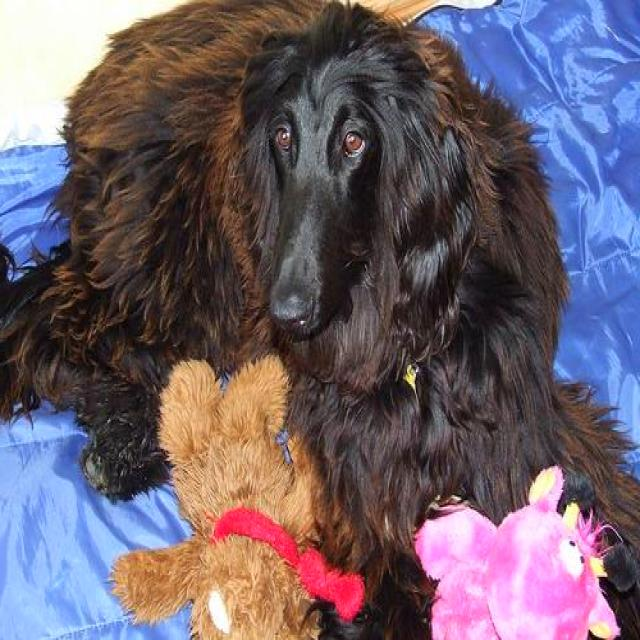afghan_hound: (2, 0, 640, 638)
